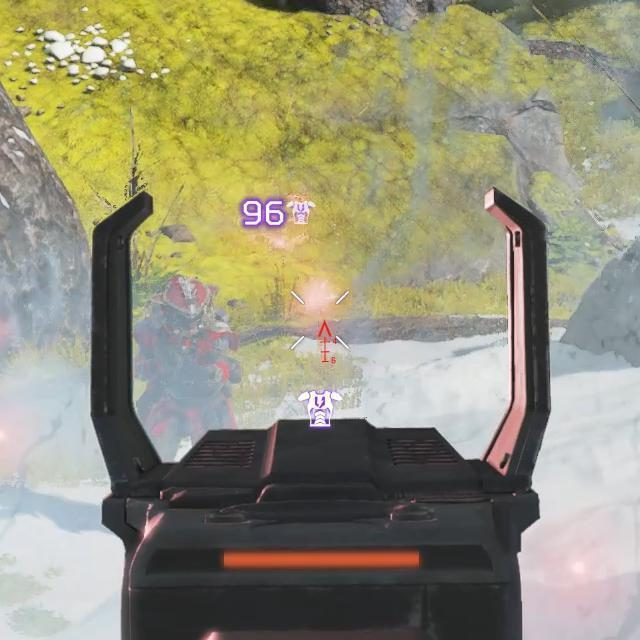avatar: (134, 274, 242, 430)
